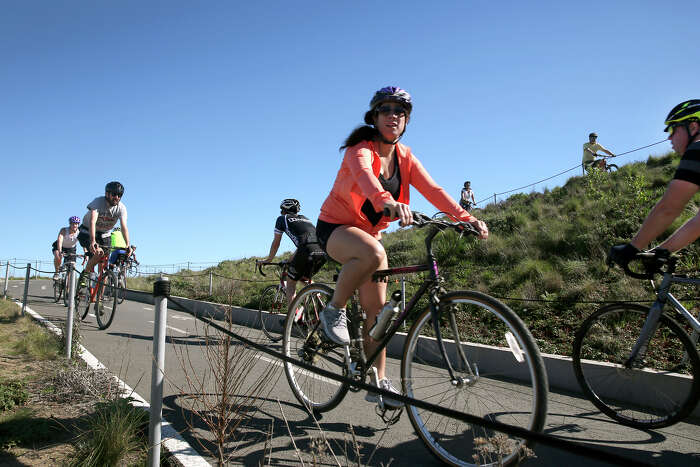helmet: (369, 85, 413, 137), (663, 99, 700, 155), (105, 181, 124, 204), (69, 215, 80, 230)
